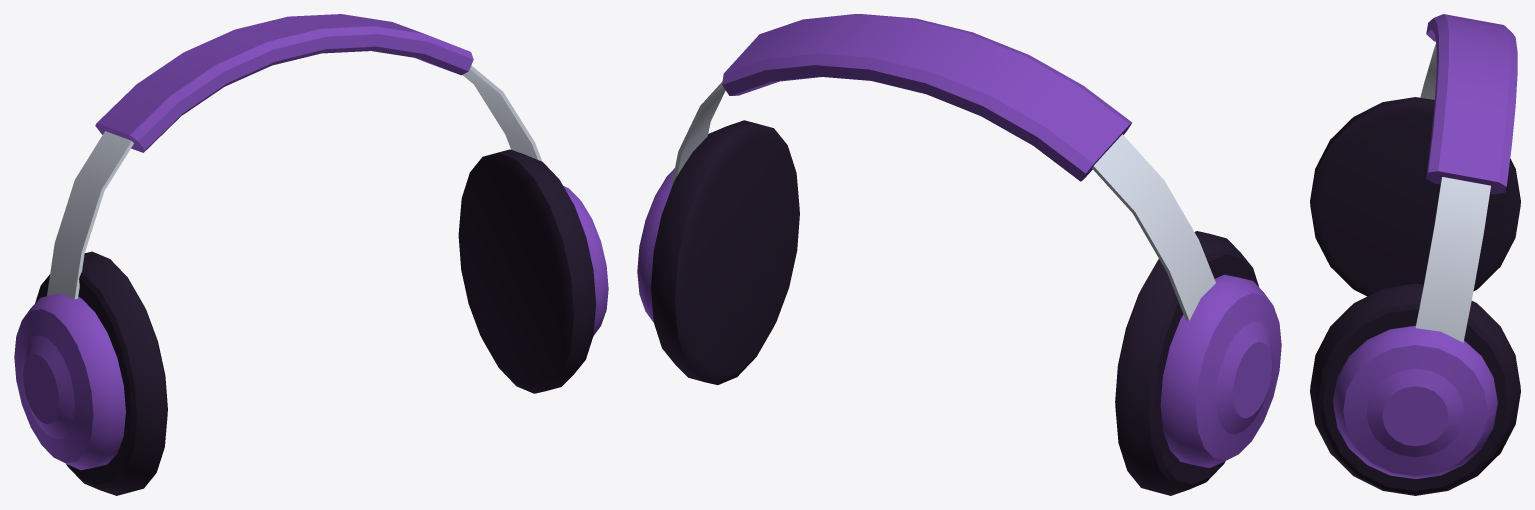
File: Headphones.fbx
3 renders of one model, left to right at view 1: azimuth 30°, elevation 25°; view 2: azimuth 150°, elevation 25°; view 3: azimuth 270°, elevation 25°, orthographic. The views are drawn at different scales.
Visible parts, largest first — view 1: pCylinder5, pCylinder3, pCylinder2, pCylinder1, pCylinder4, pCylinder6; view 2: pCylinder5, pCylinder3, pCylinder2, pCylinder1, pCylinder4, pCylinder6; view 3: pCylinder1, pCylinder6, pCylinder3, pCylinder5, pCylinder4.
Boxes of the visible parts, x1,y1,x2,y2 form: pCylinder5: [458, 149, 595, 393]; pCylinder3: [95, 14, 473, 152]; pCylinder2: [14, 293, 125, 470]; pCylinder1: [35, 251, 167, 495]; pCylinder4: [47, 65, 542, 299]; pCylinder6: [563, 185, 608, 335]; pCylinder5: [651, 120, 799, 384]; pCylinder3: [722, 14, 1132, 181]; pCylinder2: [1160, 274, 1281, 467]; pCylinder1: [1115, 231, 1258, 495]; pCylinder4: [670, 81, 1215, 320]; pCylinder6: [637, 168, 674, 322]; pCylinder1: [1310, 97, 1520, 296]; pCylinder6: [1333, 325, 1497, 478]; pCylinder3: [1426, 14, 1517, 194]; pCylinder5: [1310, 283, 1520, 495]; pCylinder4: [1415, 44, 1490, 342].
Bounding box in the file's own units: 0.3149 × 0.2156 × 0.1163.
